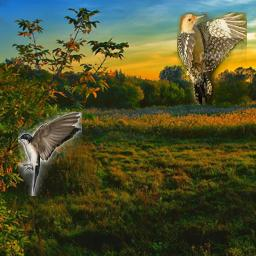Swallow: (18, 112, 82, 196)
Woodpecker: (177, 12, 247, 105)
